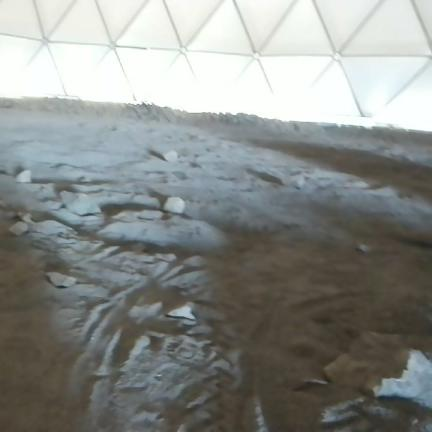Rock: (324, 333, 431, 407), (60, 191, 101, 215), (167, 304, 196, 320), (47, 272, 76, 287), (164, 197, 185, 214), (9, 222, 28, 235), (16, 170, 31, 182), (163, 151, 178, 161), (357, 244, 370, 253)
